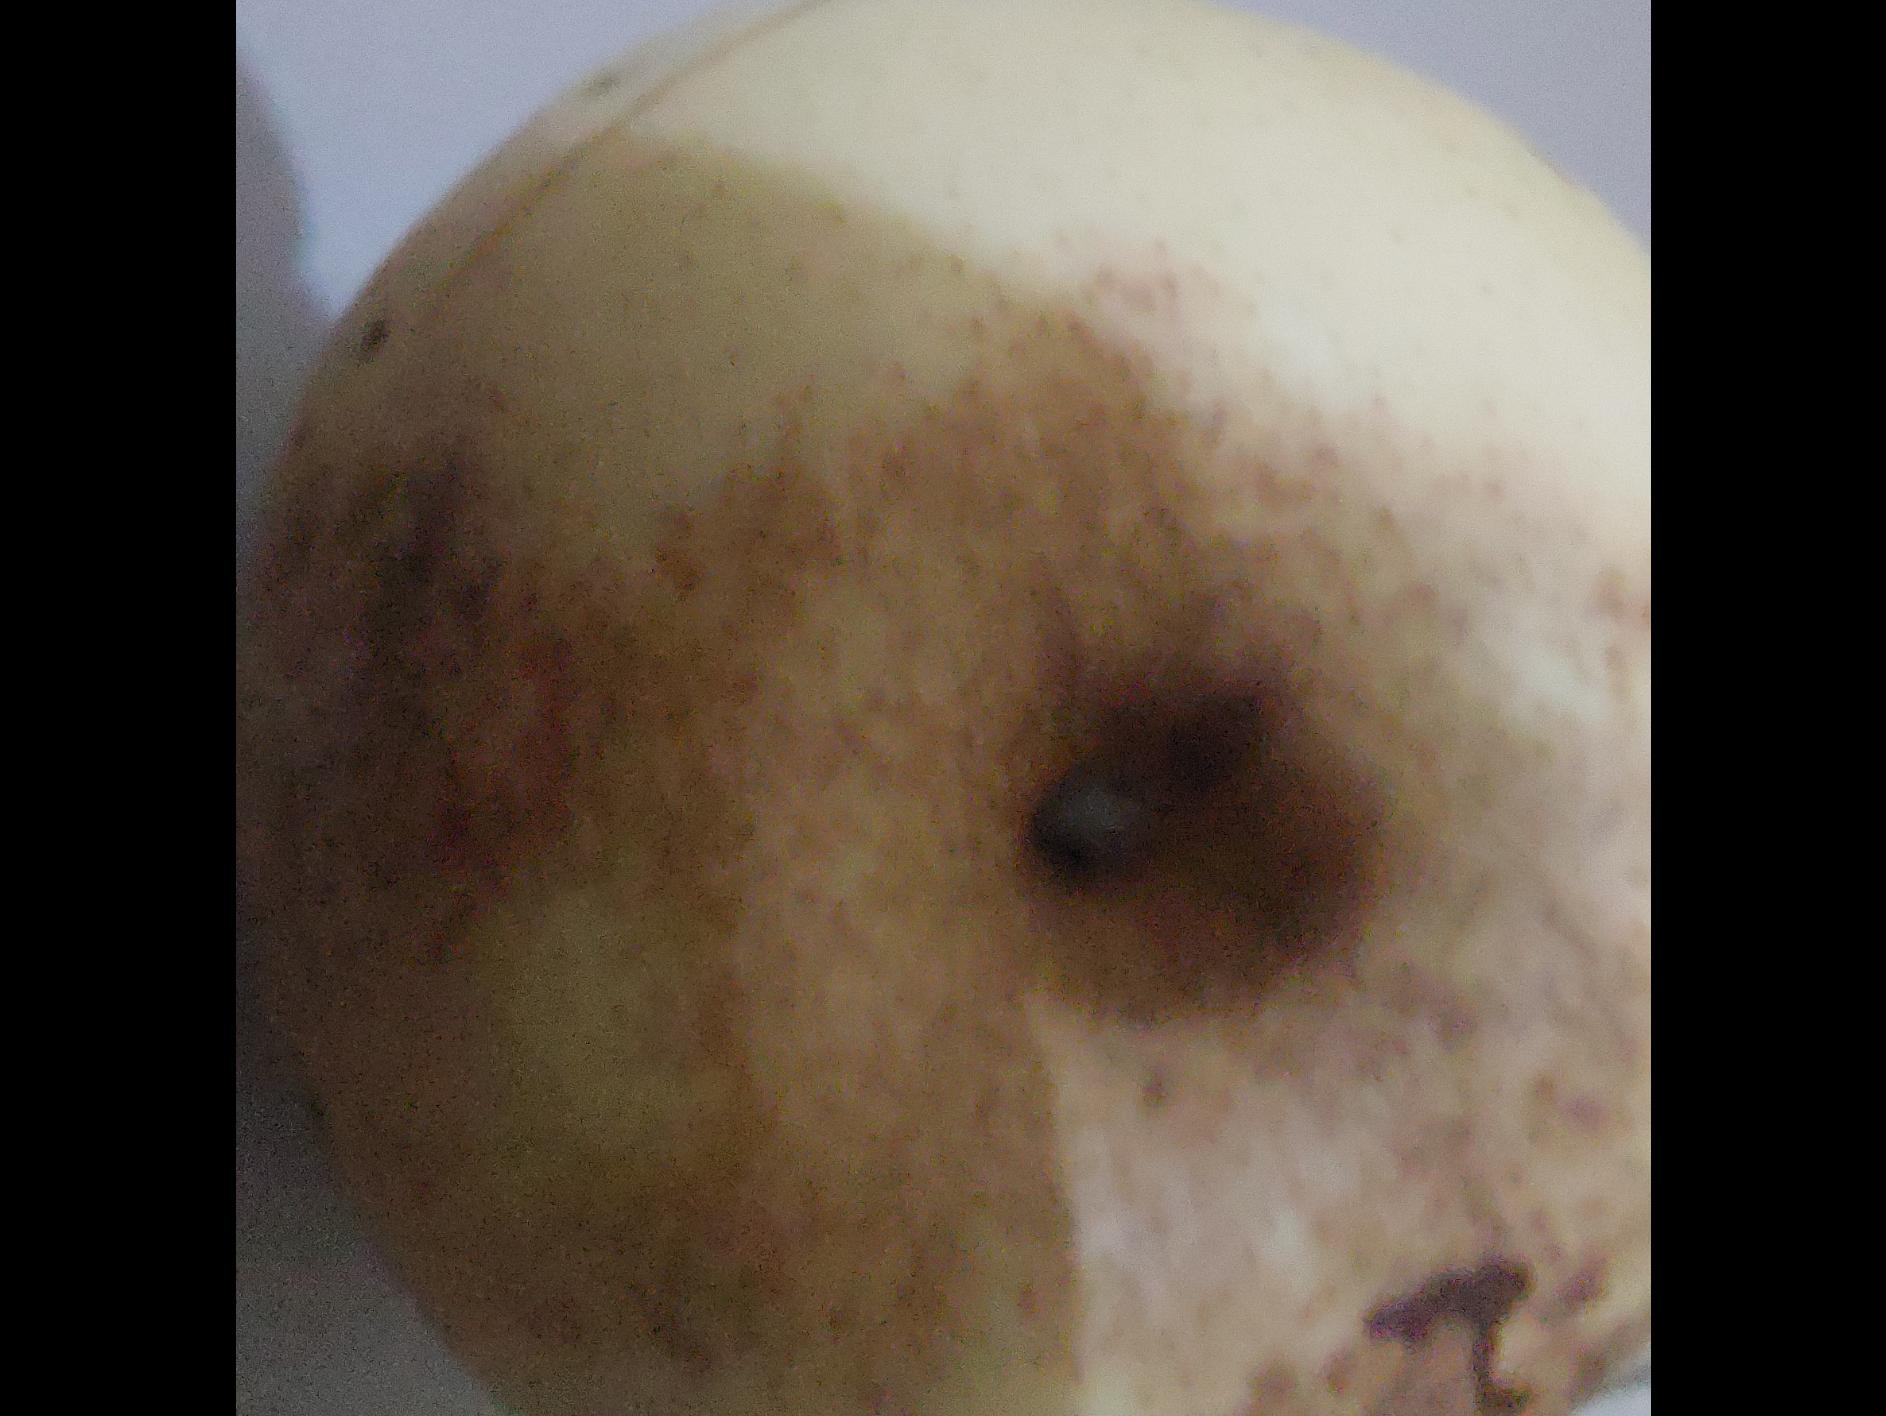Bad Pear: (245, 0, 1651, 1416)
